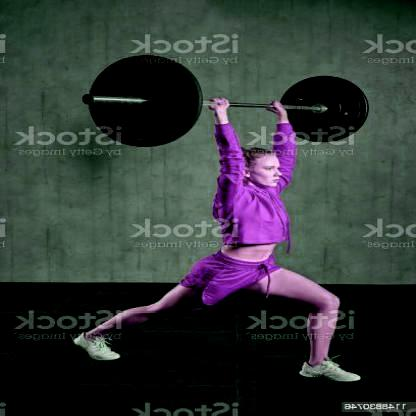Barbell: (72, 91, 99, 109)
